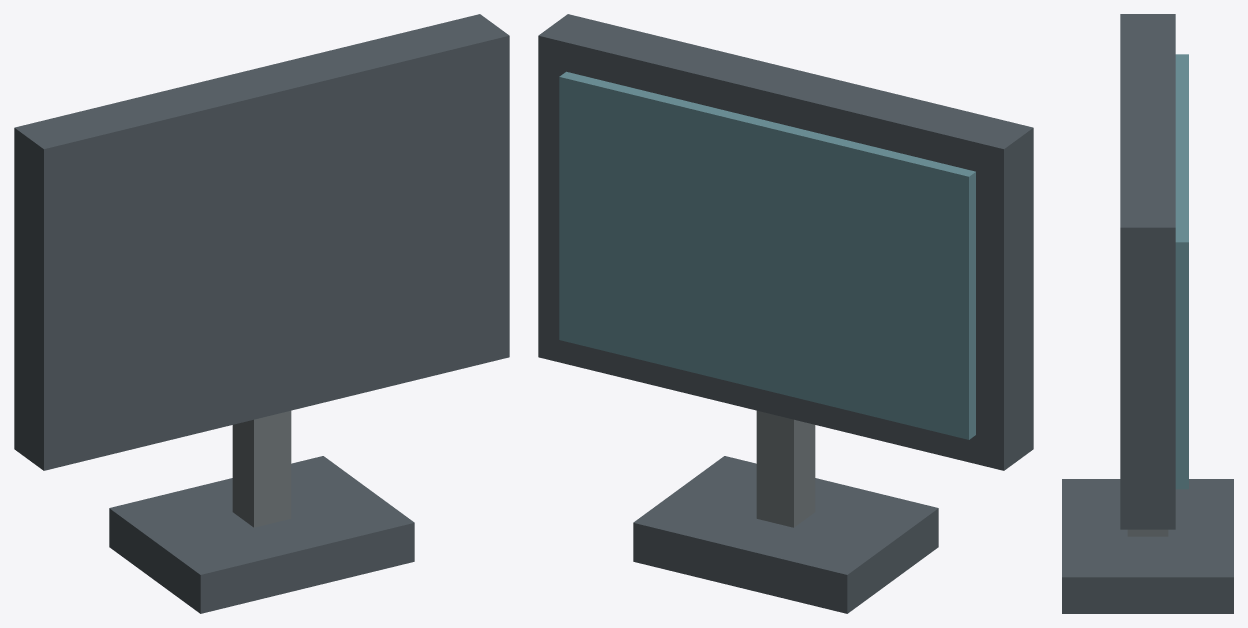
File: computer_monitor.glb
3 views of the same model, side by side, from view 1: azimuth 30°, elevation 25°; view 2: azimuth 150°, elevation 25°; view 3: azimuth 270°, elevation 25° (orthographic). The views are drawn at different scales.
Parts seen in each view (by area): view 1: body; view 2: body; view 3: body.
Boxes of the visible parts, box(x1,y1,x2,y2) form: body: box(14, 14, 509, 613); body: box(538, 14, 1033, 613); body: box(1062, 14, 1233, 613).
Size of the model in its own units: 0.5 by 0.485 by 0.17.
